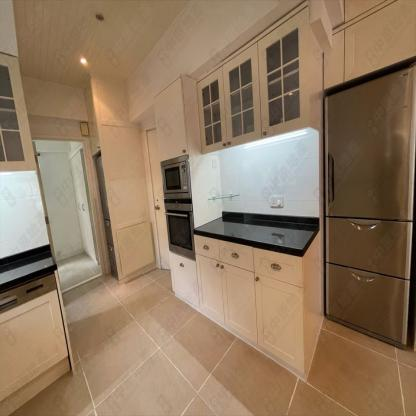Cupboard: (170, 232, 304, 376), (197, 5, 309, 155)
Fridge: (324, 63, 414, 348)
Oven: (161, 153, 196, 258)
